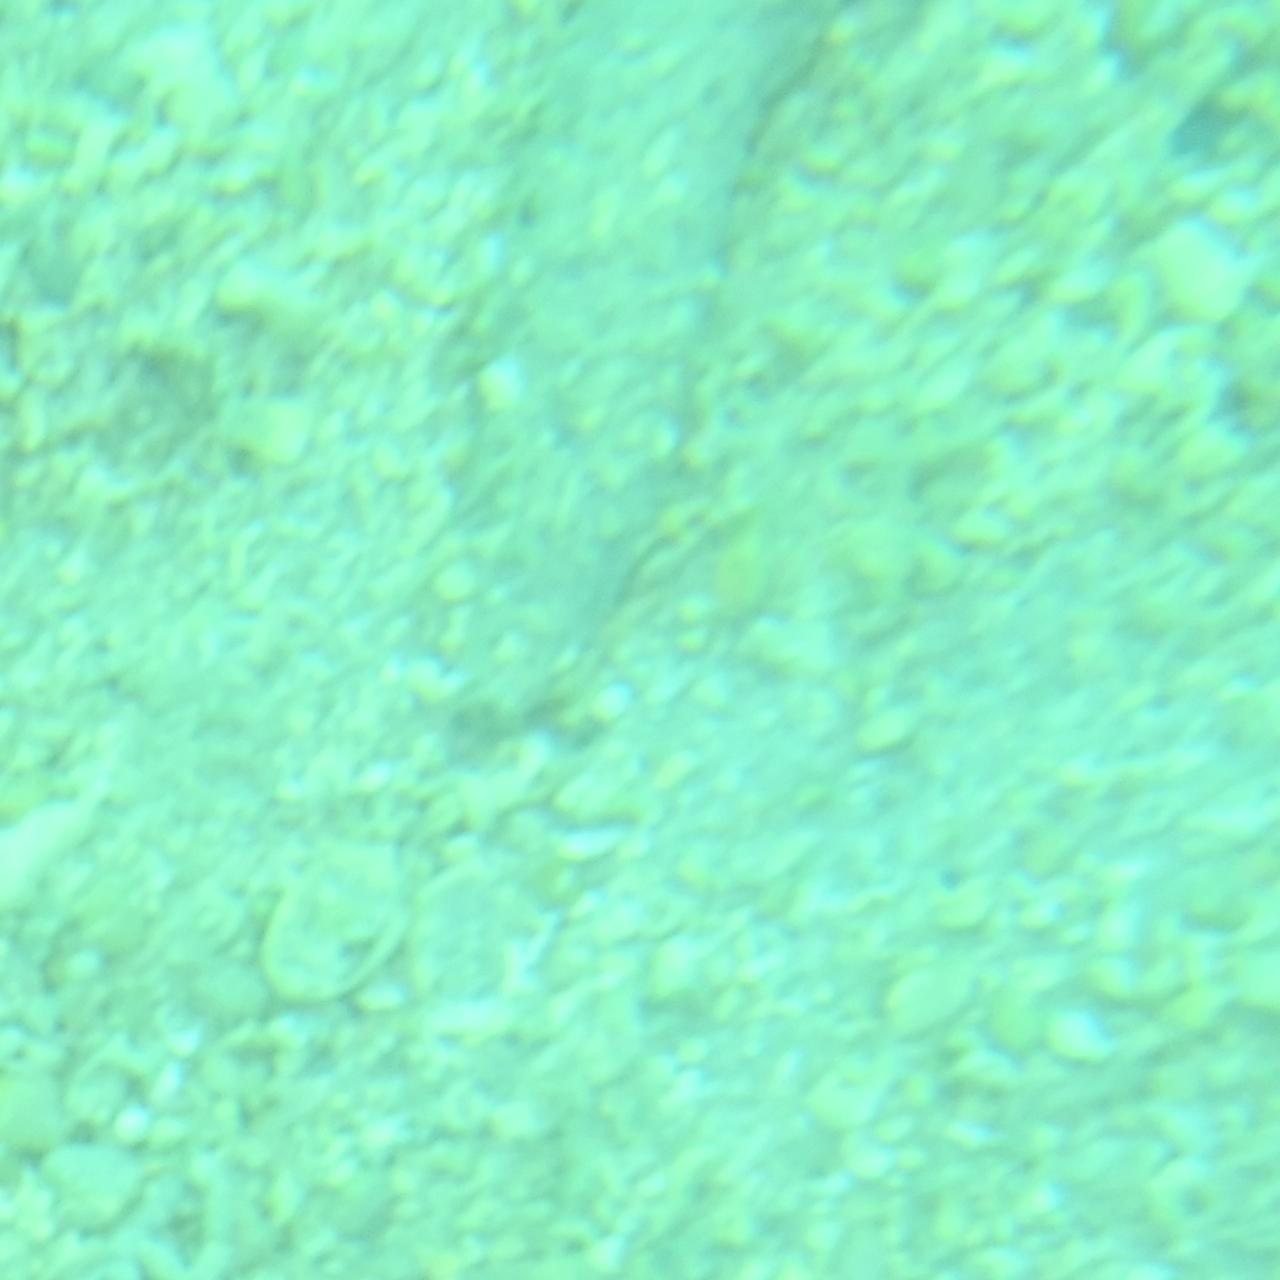Holothuria tubulosa: (428, 0, 852, 778)
